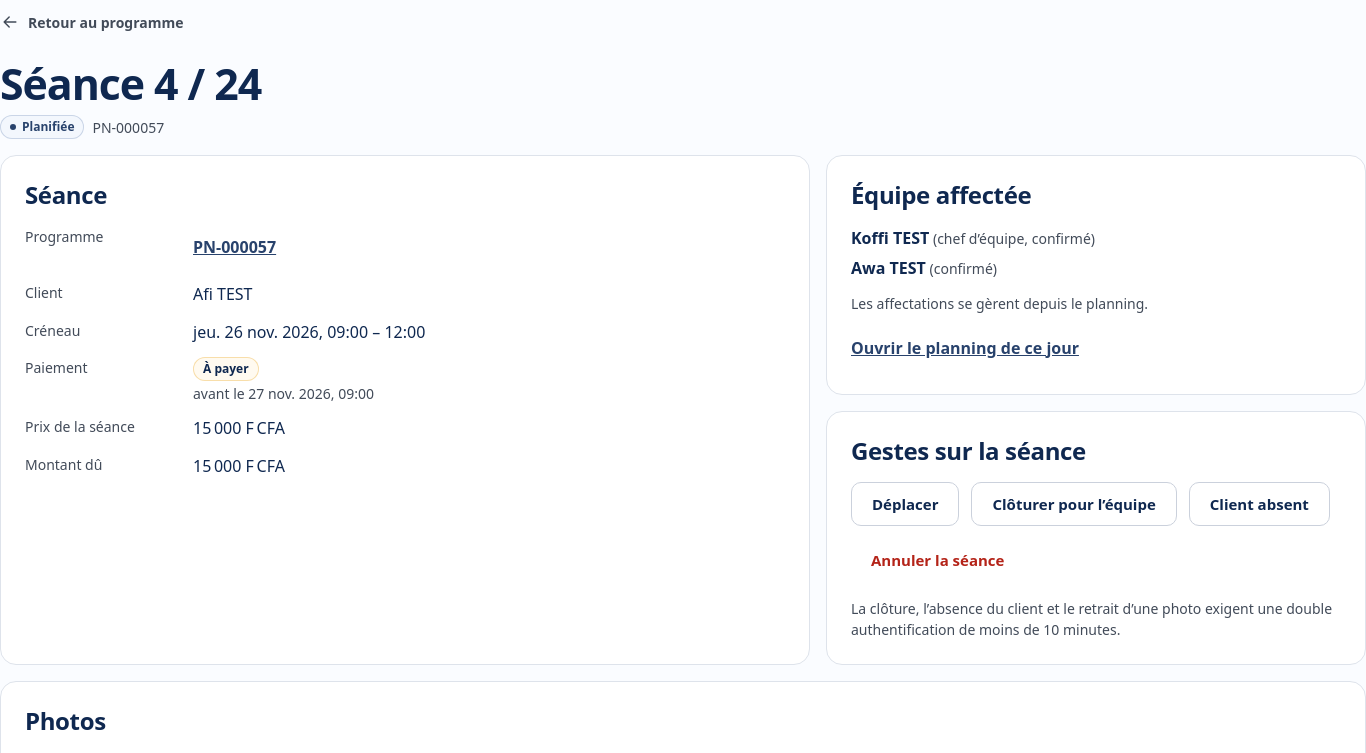
Test: séance : gestes › déplacer : contrôles, conflit refusé par la gateway, envoi
Click the button "Déplacer": point(905, 504) [851,482,960,526]
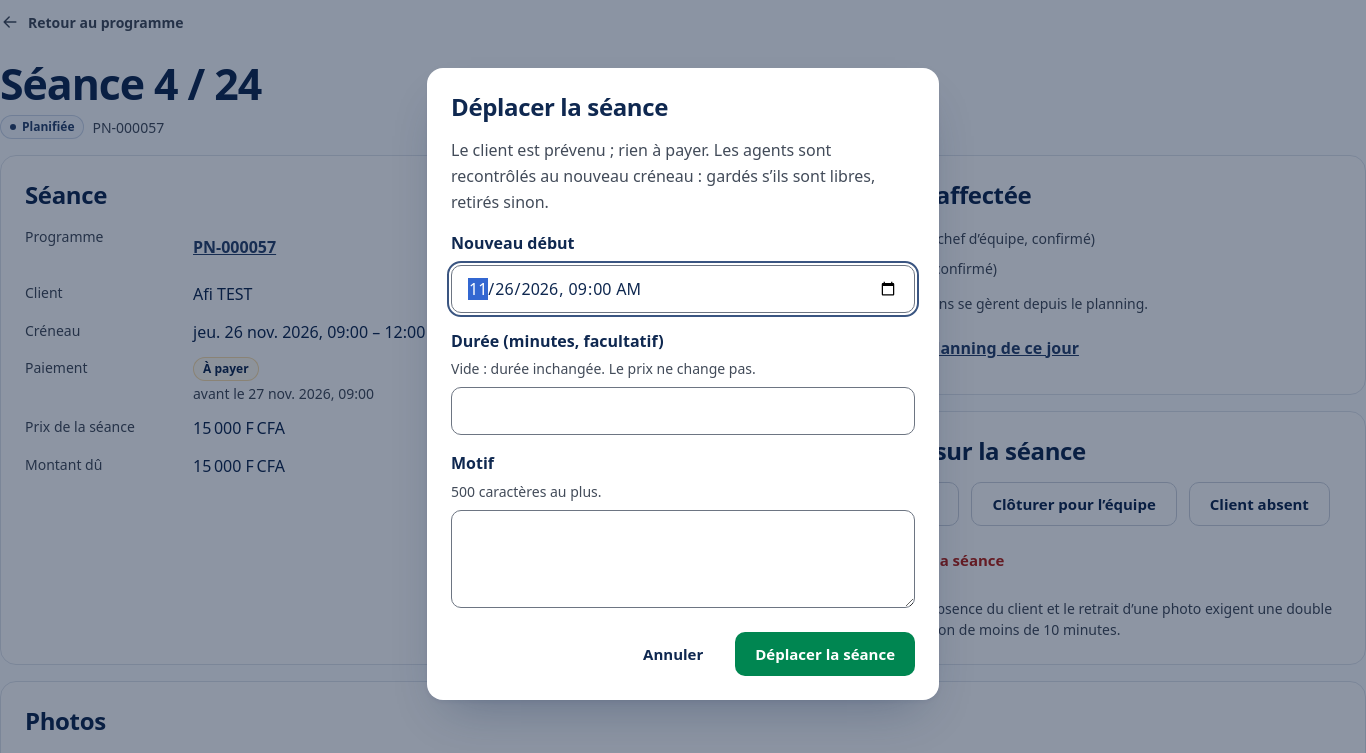
Replace the text in the field labelled "Nouveau début" with "2026-11-20T10:00": point(683, 289) [451,265,915,313]
Click the button "Déplacer la séance": point(825, 654) [735,632,915,676]
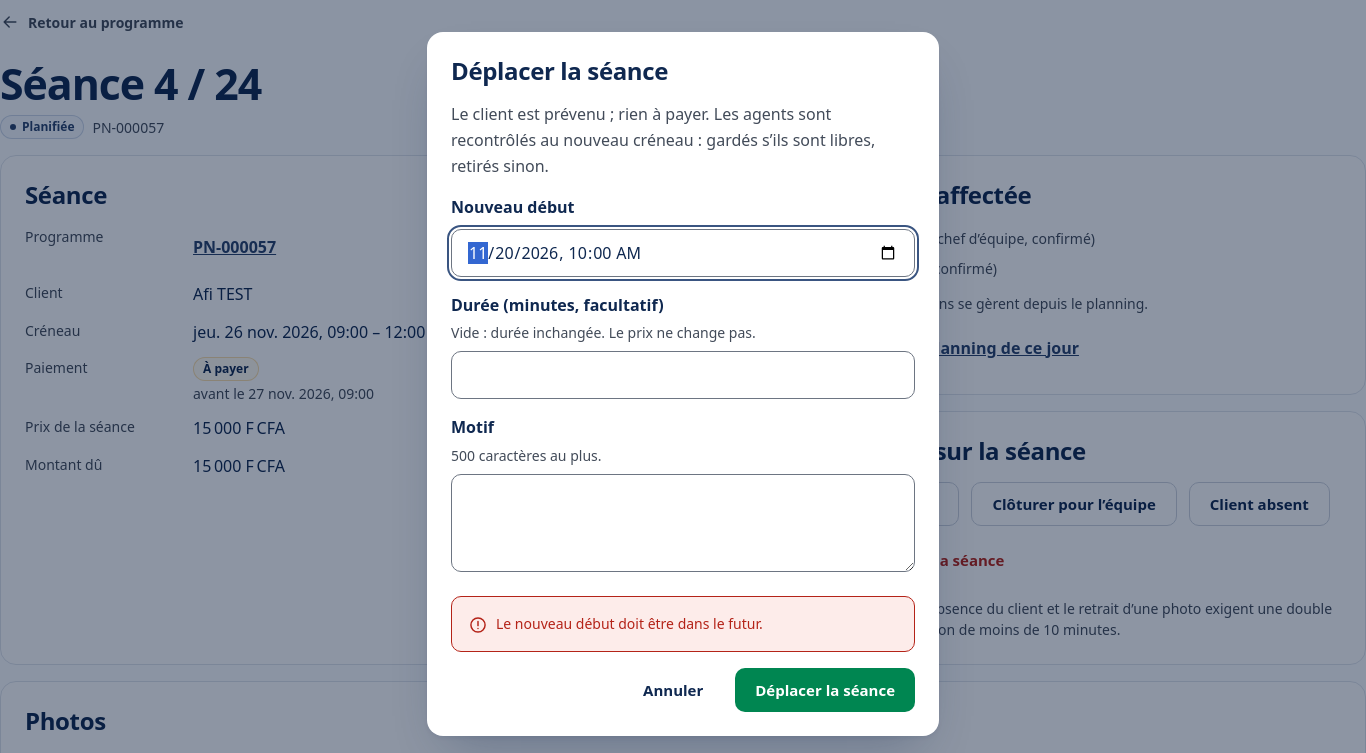
Expected: the text "Le nouveau début doit être dans le futur." is shown, [496,613,763,634]
Replace the text in the field labelled "Nouveau début" with "2026-11-28T10:00": point(683, 253) [451,229,915,277]
In the text box labelled "Motif": point(683, 523) [451,474,915,572], type "Demande du client"
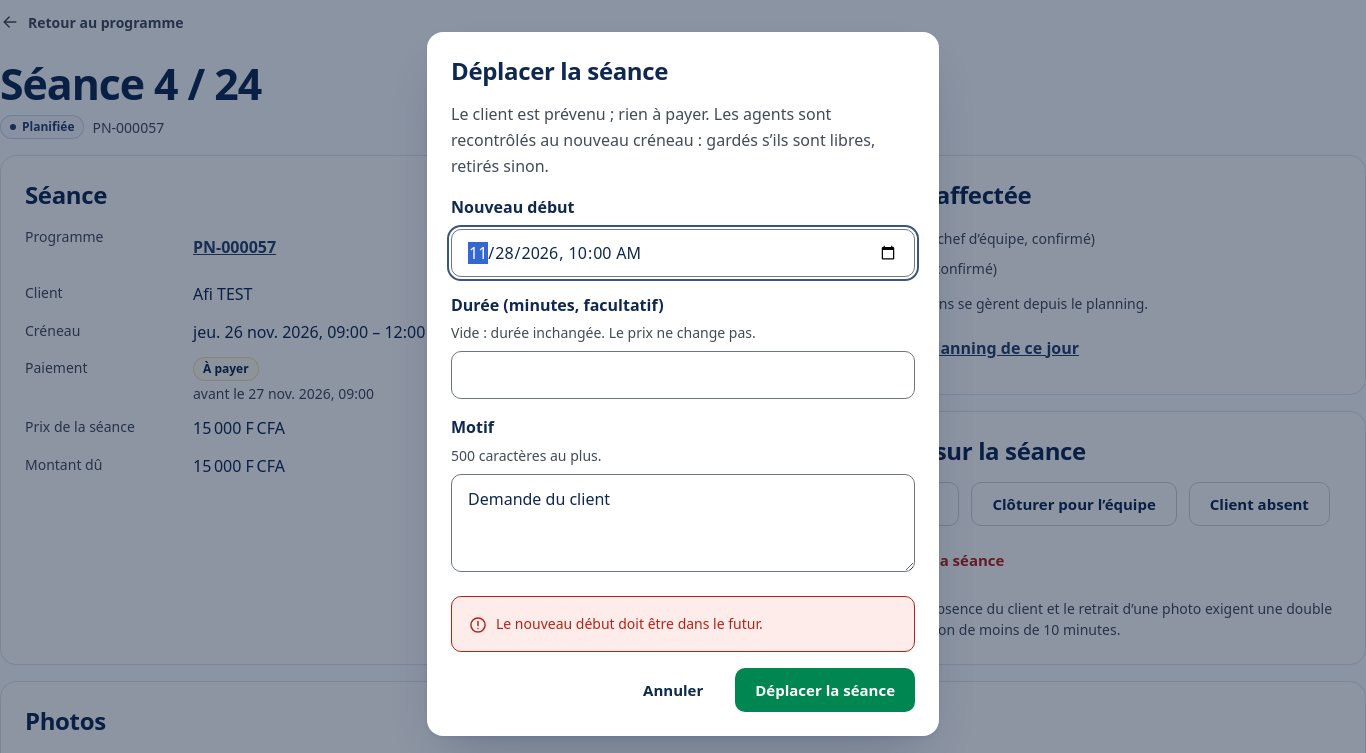
Click the button "Déplacer la séance": point(825, 690) [735,668,915,712]
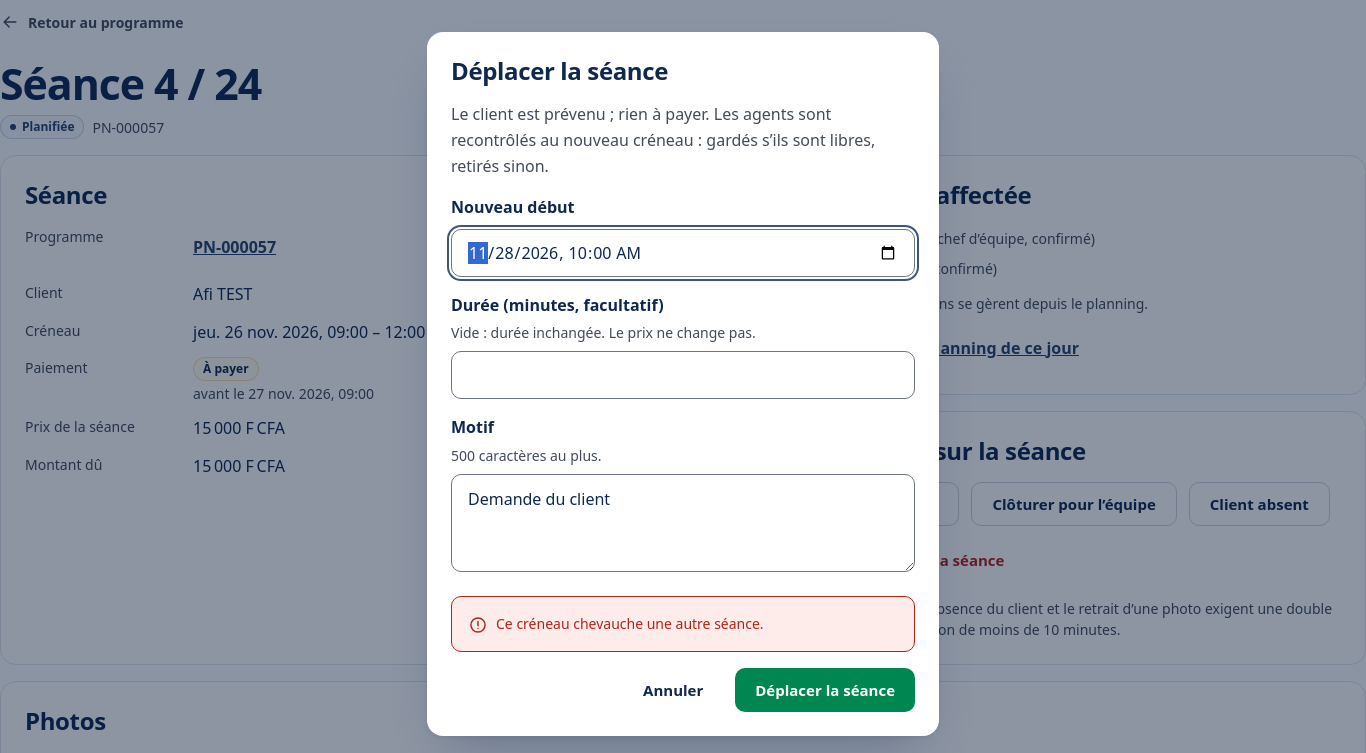
Expected: the text "Ce créneau chevauche une autre séance." is shown, [496,613,764,634]
In the field labelled "Durée (minutes, facultatif)": point(683, 375) [451,351,915,399], type "120"
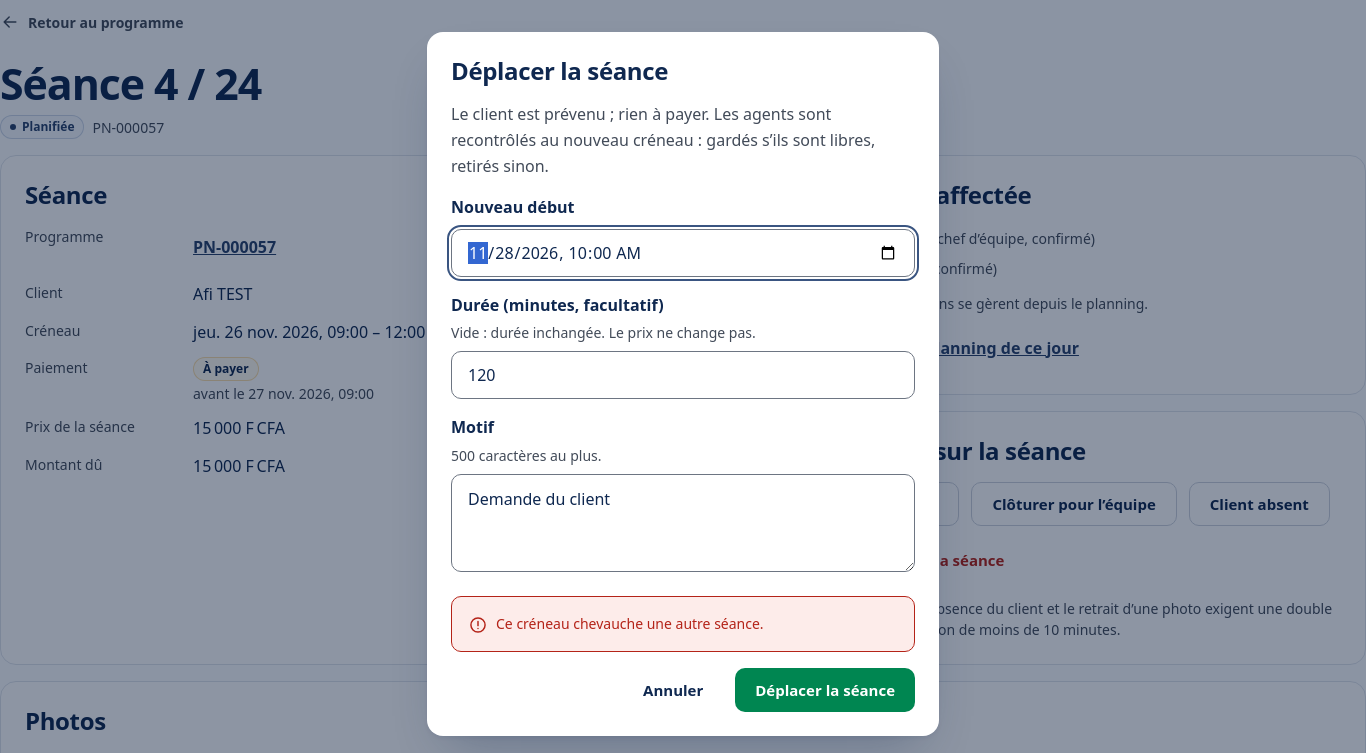
Click the button "Déplacer la séance": point(825, 690) [735,668,915,712]
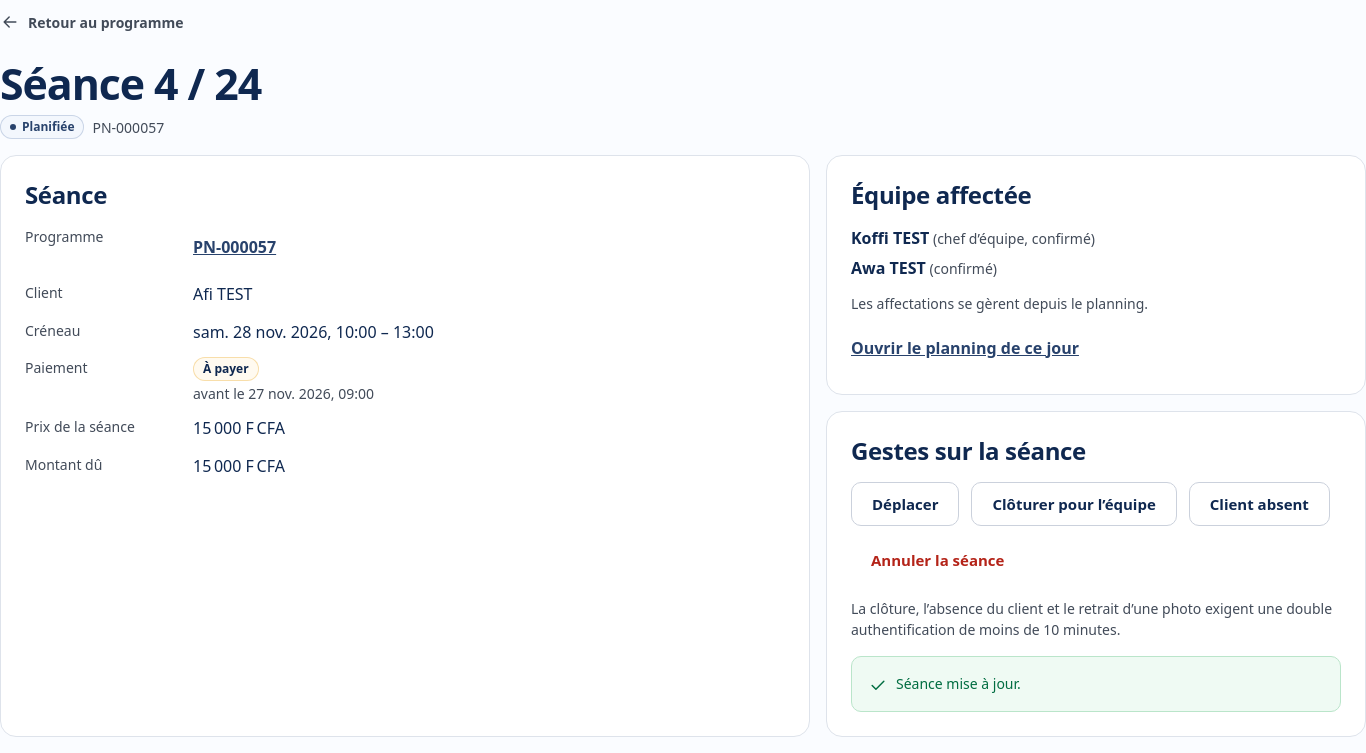
Expected: the text "Séance mise à jour." is shown, [896,673,1021,694]
